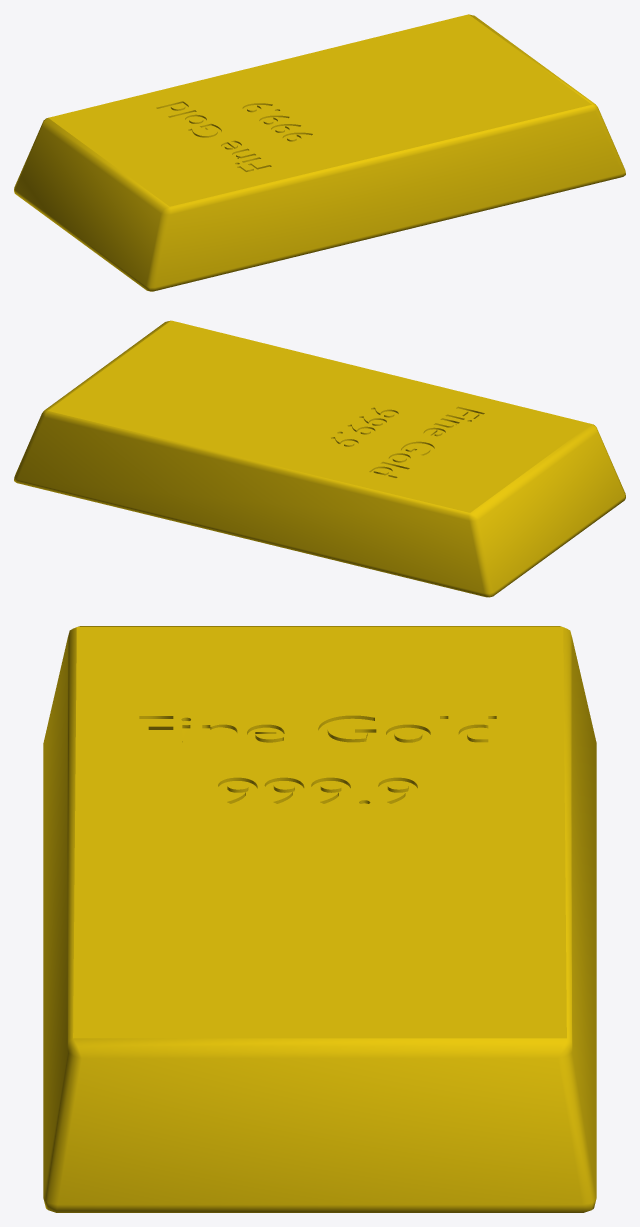
File: ingot.glb
3 renders of one model, top to bottom at view 1: azimuth 30°, elevation 25°; view 2: azimuth 150°, elevation 25°; view 3: azimuth 270°, elevation 25°, orthographic. The views are drawn at different scales.
Visible parts, largest first — view 1: ingot; view 2: ingot; view 3: ingot.
Part boxes in pixels (x1=…): ingot: x1=14, y1=14, x2=625, y2=291; ingot: x1=14, y1=320, x2=625, y2=597; ingot: x1=43, y1=626, x2=596, y2=1212.
Size of the model in its own units: 0.1537 by 0.023 by 0.0768.
